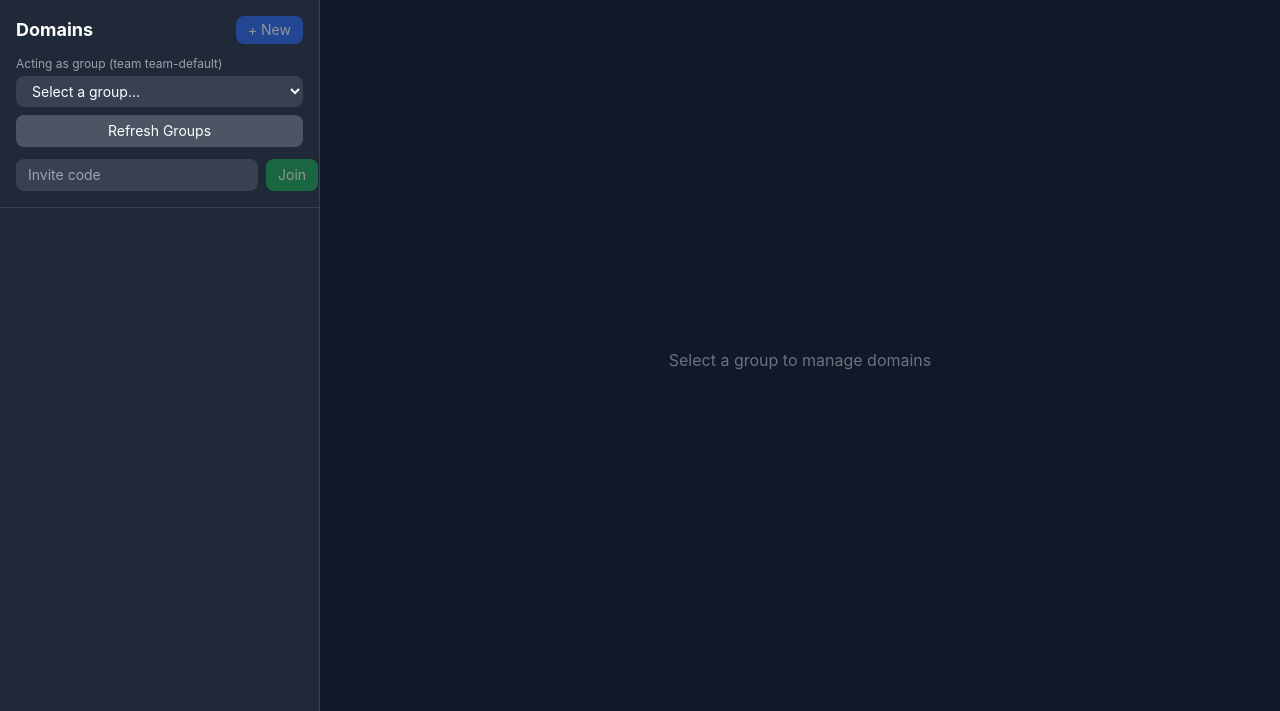
Slice 5: DomainsPage › shows reputation scores and flagged marks in discovery results
The width and height of the screenshot is (1280, 711).
Select "Alpha" in the dropdown: coordinates (160, 92) [16,76,303,107]
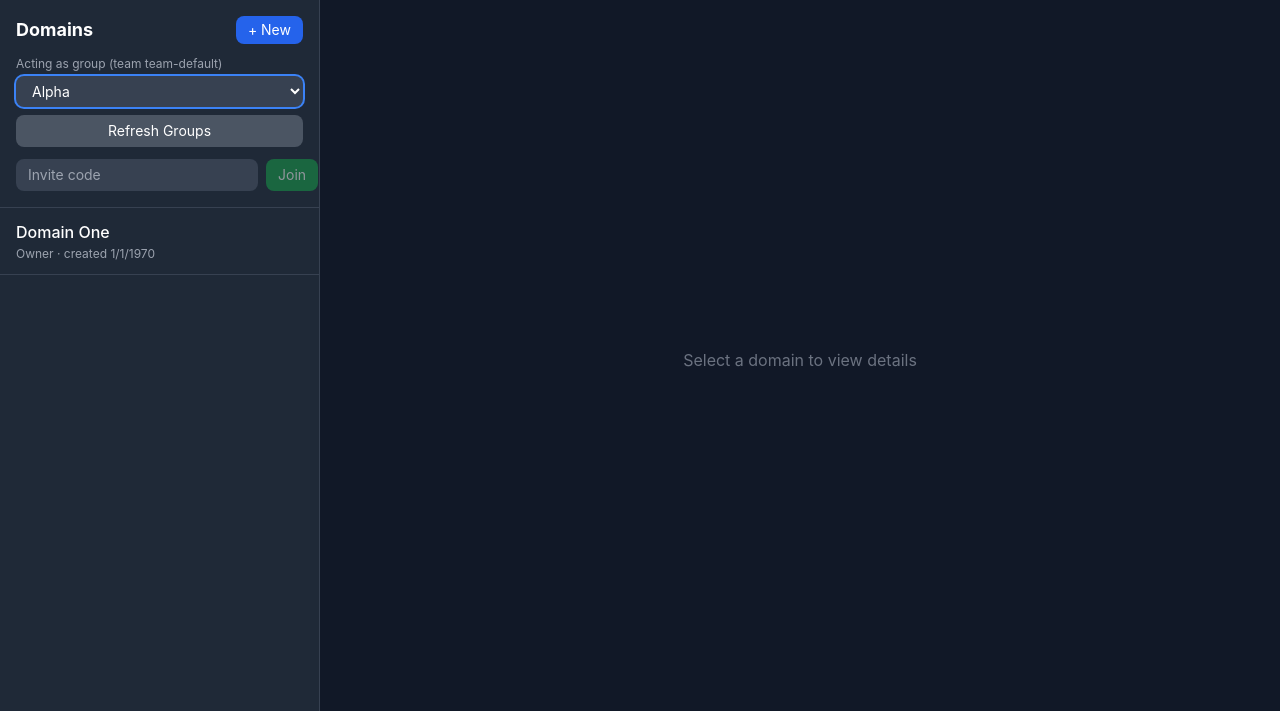
Expected: the text "Domain One" is shown
Click the text "Domain One": coordinates (63, 232) [16,222,110,242]
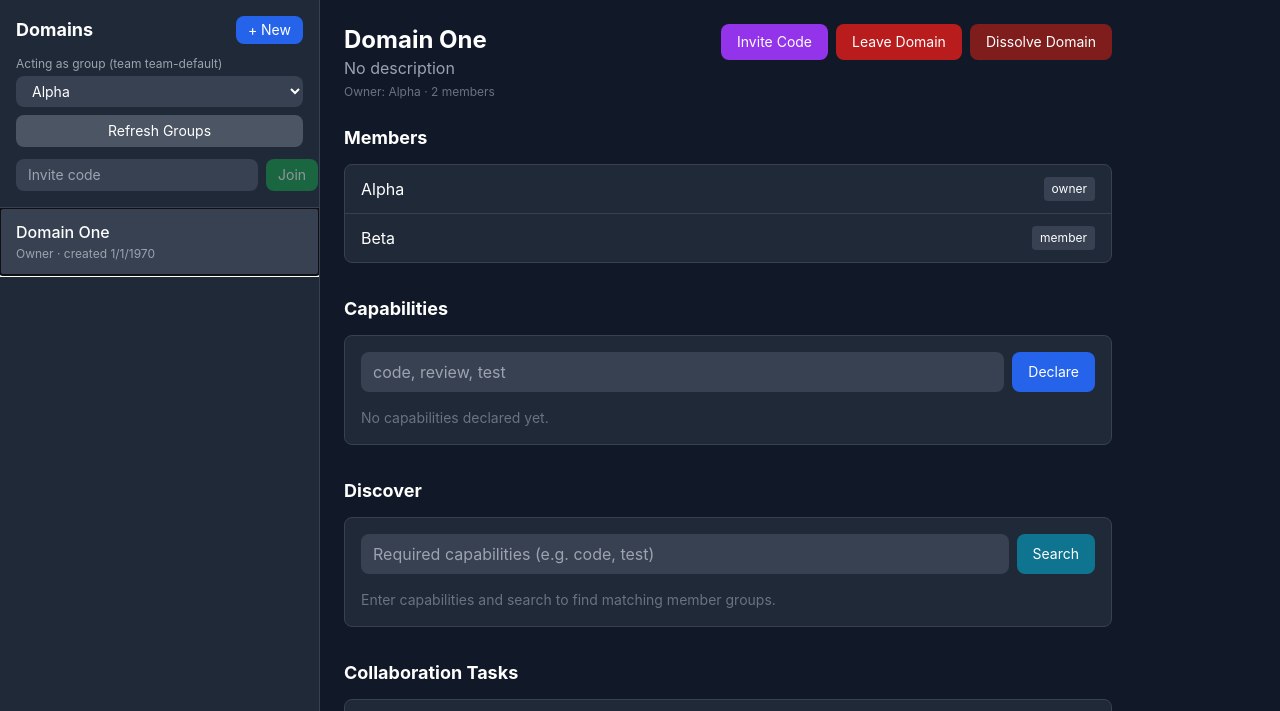
Expected: the button "Search" is shown, [1016,534,1095,574]
In the field with placeholder "Required capabilities (e.g. code, test)": coordinates (685, 554) [361,534,1008,574], type "code"
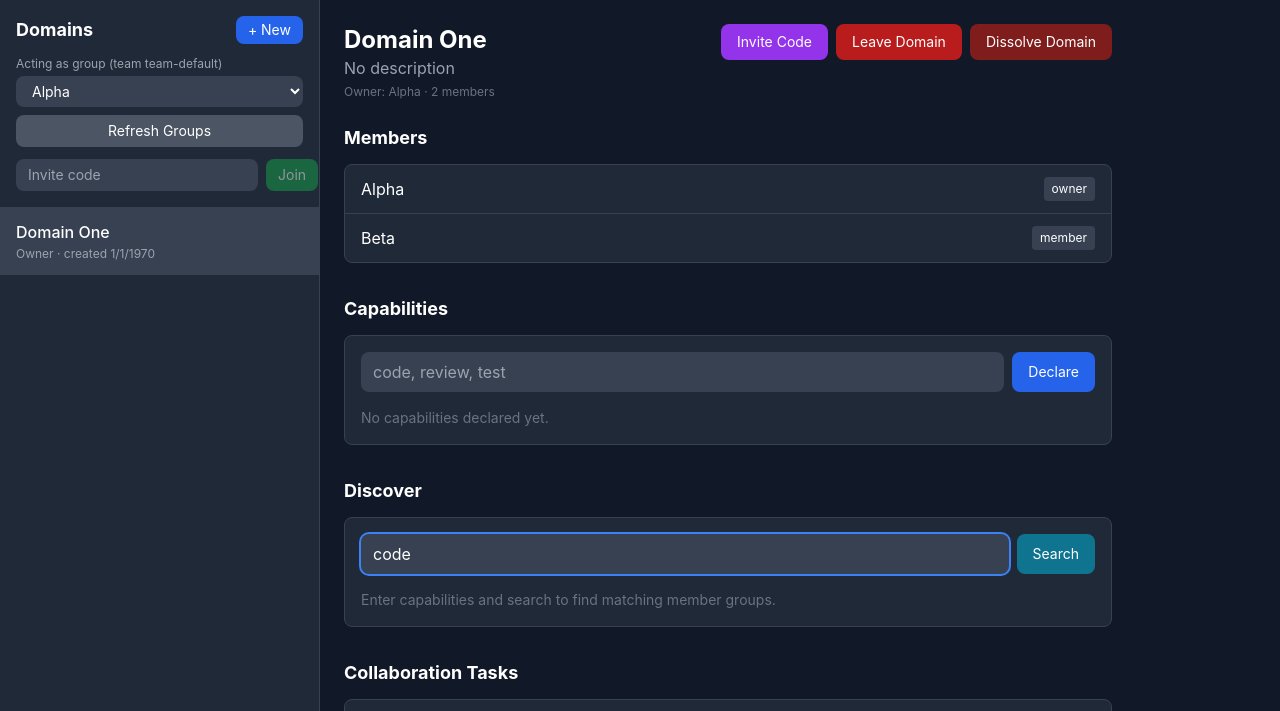
Click the button "Search": coordinates (1056, 554) [1016,534,1095,574]
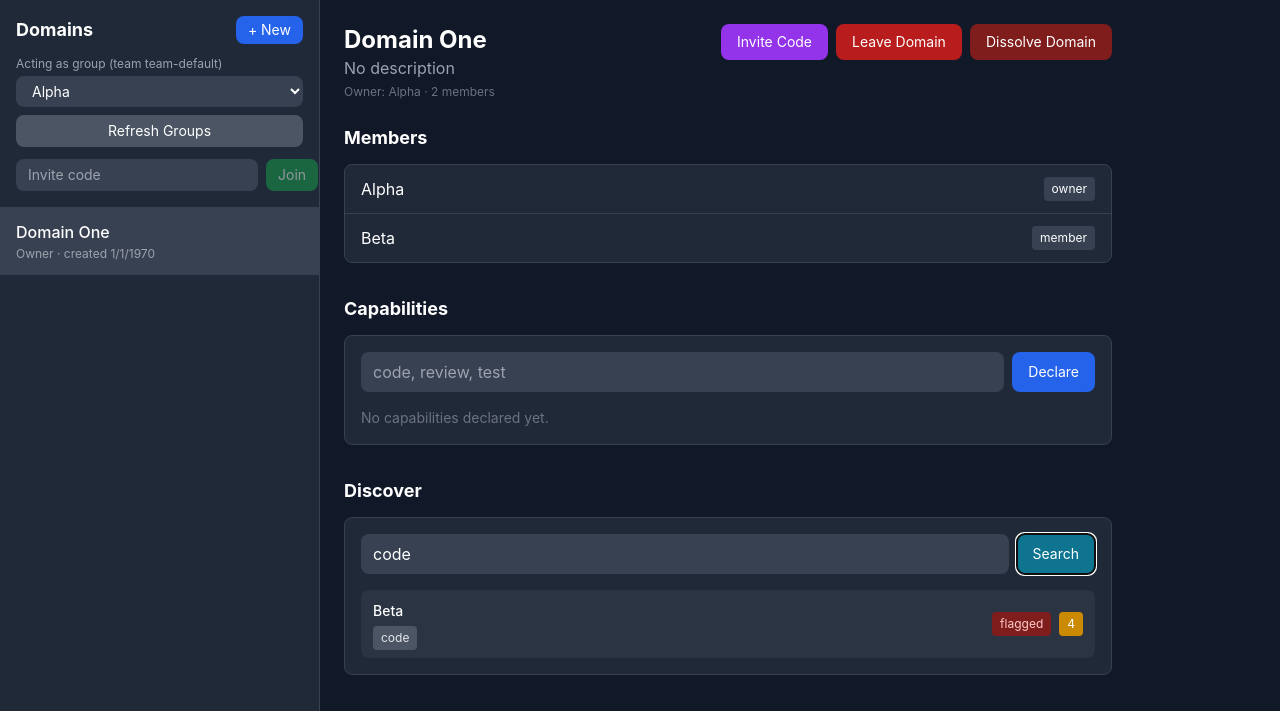
Expected: the text "code" is shown, [373,626,417,650]
Expected: the text "4" is shown, [1059,612,1083,636]
Expected: the text "flagged" is shown, [992,612,1051,636]
